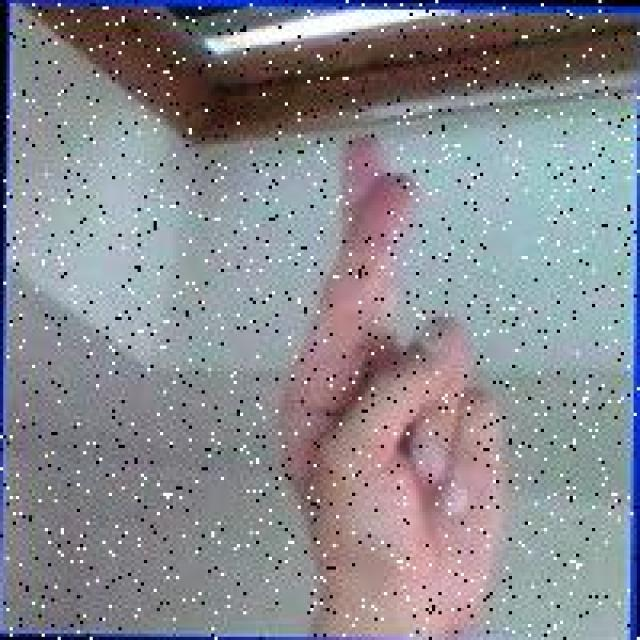R: (269, 125, 518, 621)
